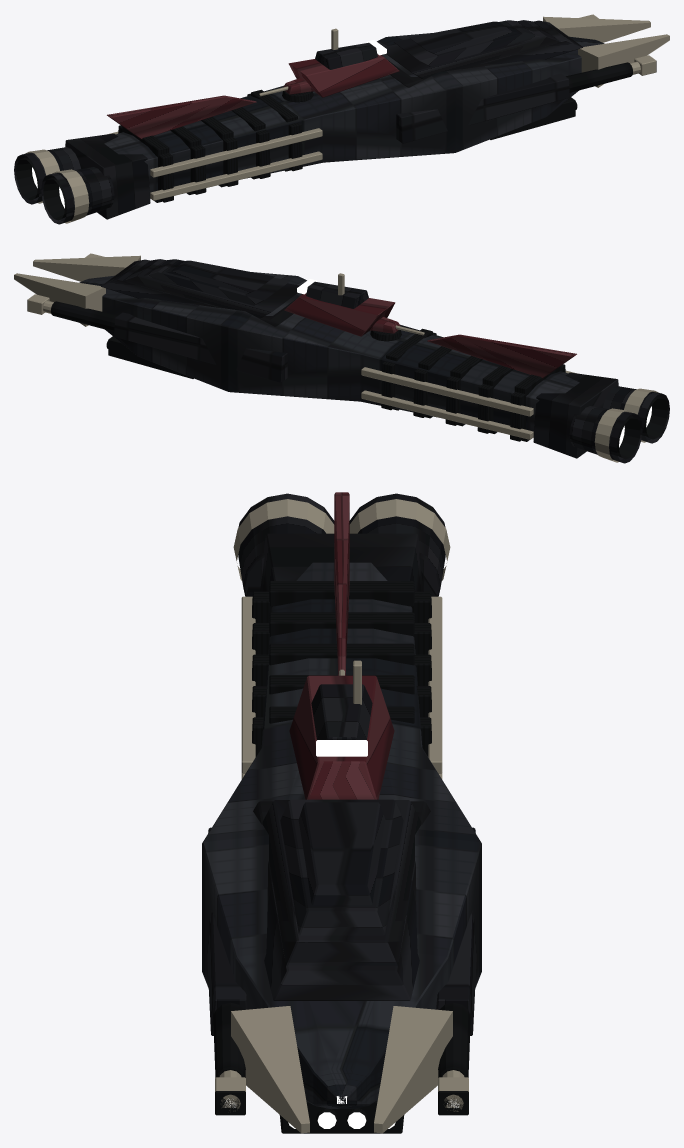
Rendered from destroyer.glb.
3 renders of one model, top to bottom at view 1: azimuth 30°, elevation 25°; view 2: azimuth 150°, elevation 25°; view 3: azimuth 270°, elevation 25°, orthographic. The views are drawn at different scales.
Visible parts, largest first — view 1: destroyer; view 2: destroyer; view 3: destroyer.
Boxes of the visible parts, x1,y1,x2,y2 form: destroyer: (14, 14, 669, 224); destroyer: (14, 253, 669, 463); destroyer: (202, 492, 481, 1133).
Size of the model in its own units: 30 by 5.95 by 5.87.
1 material, 1 textured.
